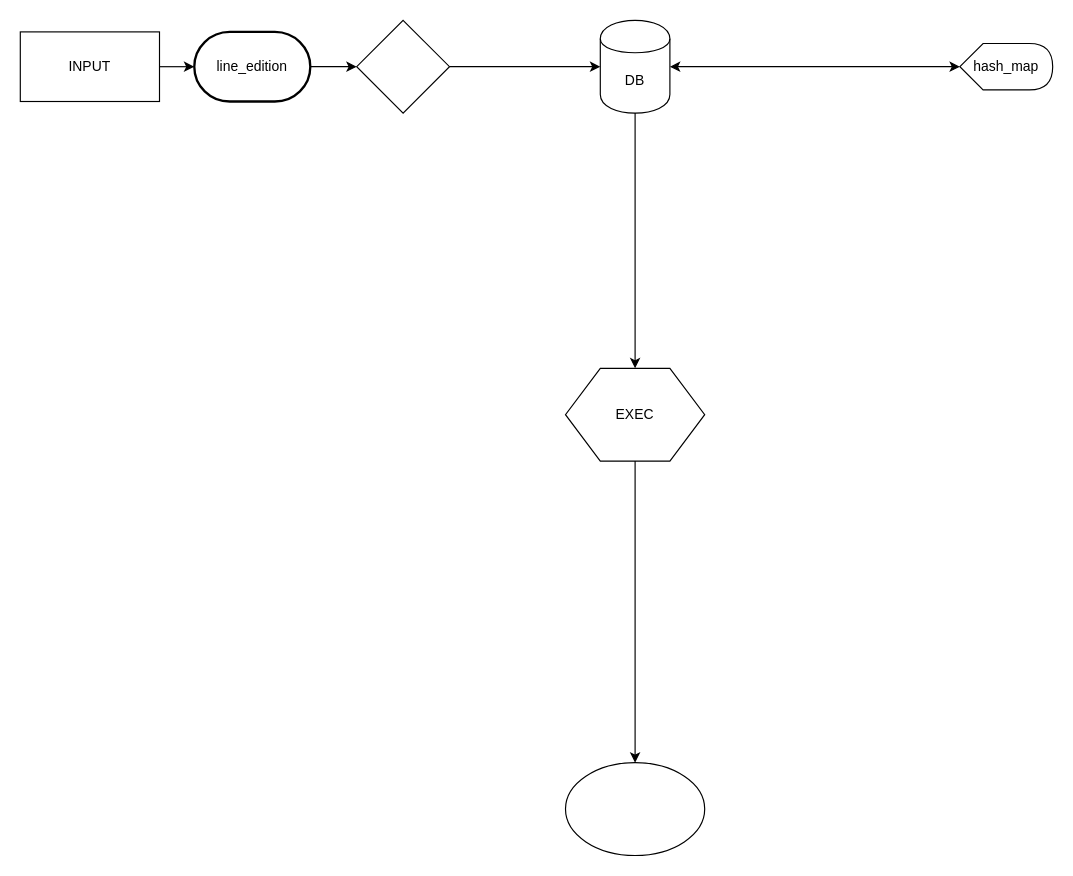
The diagram is 1073 pixels wide and 876 high, and some of its shapes have lost their labels. The shapes that lost their labels are listed below. From the top down, each one's centre as x and y in pixels, then its label:
At [402,66]: "Lexer_parser".
At [634,808]: "OUTPUT".
